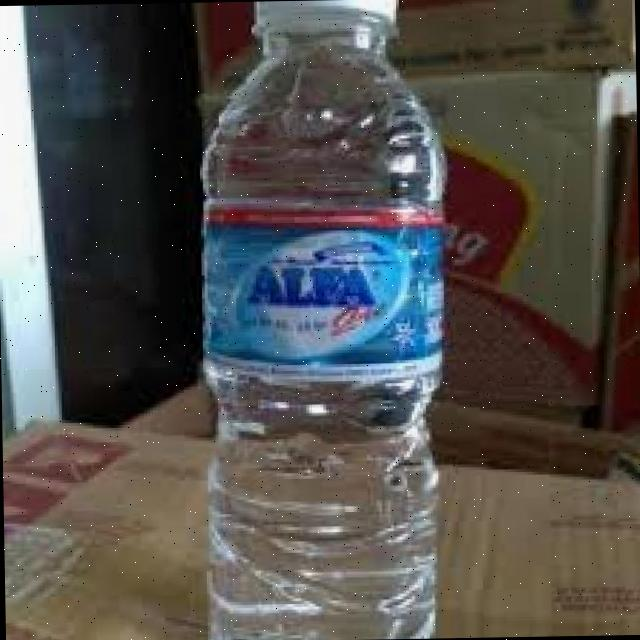bottle: (186, 0, 507, 640)
cap: (244, 0, 418, 32)
label: (201, 210, 454, 378)
